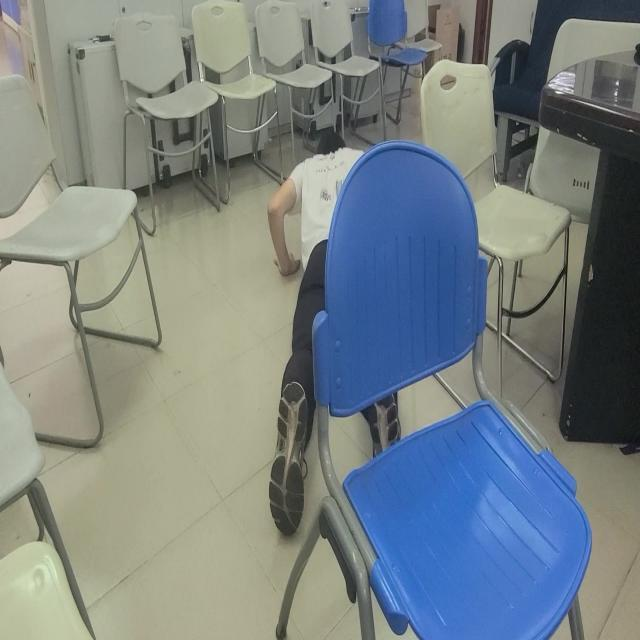fall: (266, 130, 406, 536)
